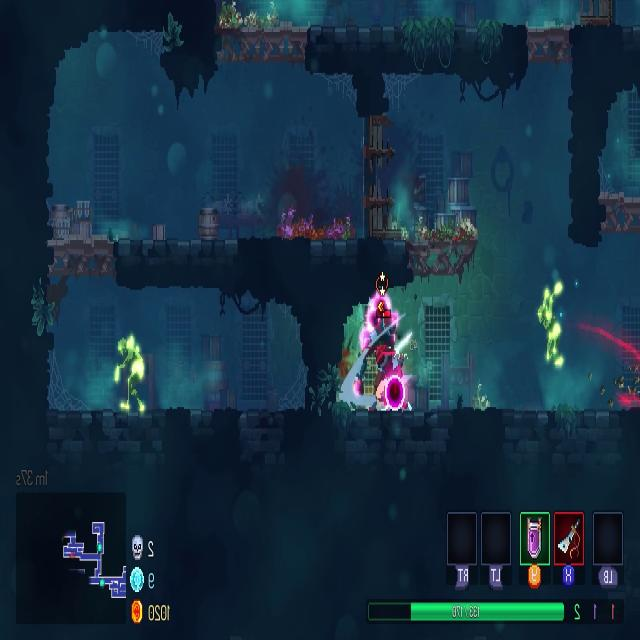agents: (354, 287, 407, 410)
enemy_green_puncher: (113, 332, 145, 414), (536, 282, 564, 363)
enemy_purple_big: (362, 294, 401, 413)
wood_floor: (216, 20, 308, 61), (50, 229, 115, 277), (598, 187, 640, 234), (525, 26, 571, 64)
